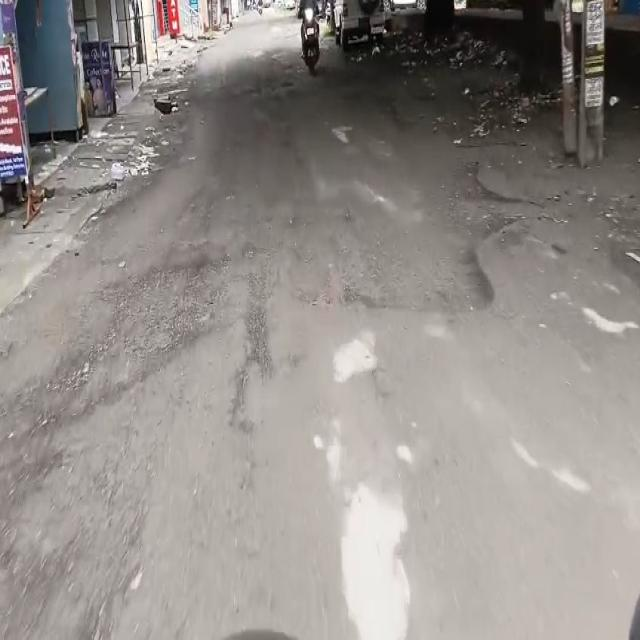road-pothole: (5, 251, 234, 437), (301, 158, 511, 318), (231, 241, 274, 431)
